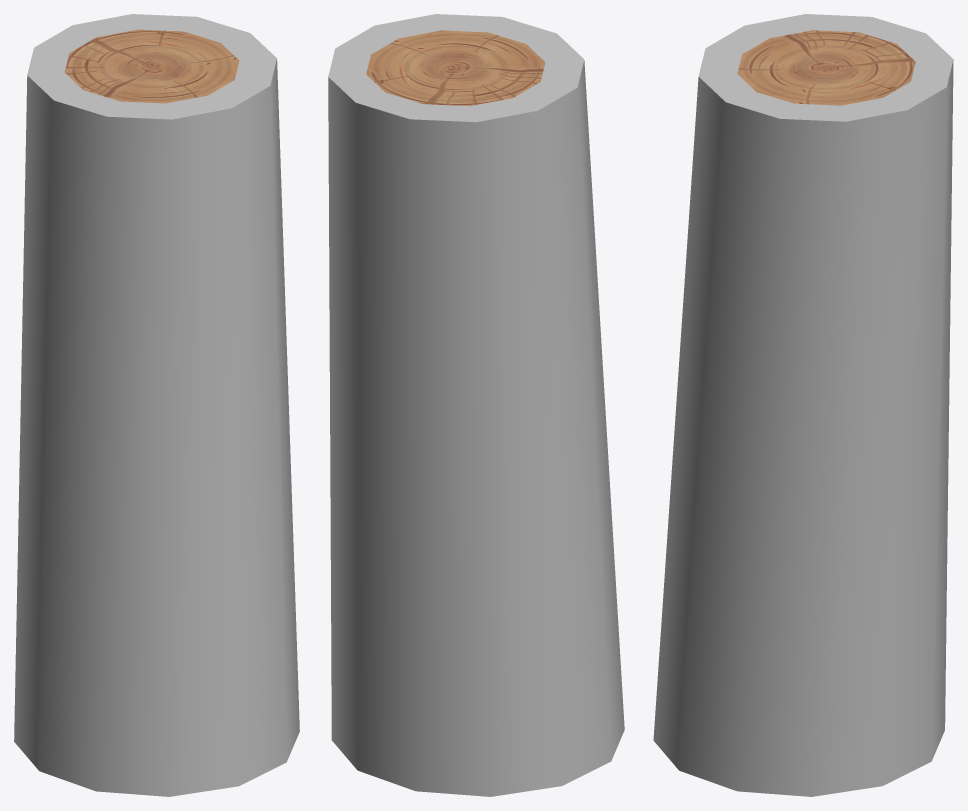
The model's file is obj_harvests_trees_leafy02_p01.fbx.
3 renders of one model, left to right at view 1: azimuth 30°, elevation 25°; view 2: azimuth 150°, elevation 25°; view 3: azimuth 270°, elevation 25°, orthographic. The views are drawn at different scales.
Visible parts, largest first — view 1: chunk01; view 2: chunk01; view 3: chunk01.
Part boxes in pixels (x1,y1,x2,y2): chunk01: (14, 14, 299, 796); chunk01: (328, 14, 624, 796); chunk01: (653, 14, 953, 796).
Bounding box in the file's own units: 3.15 × 8 × 3.24.
